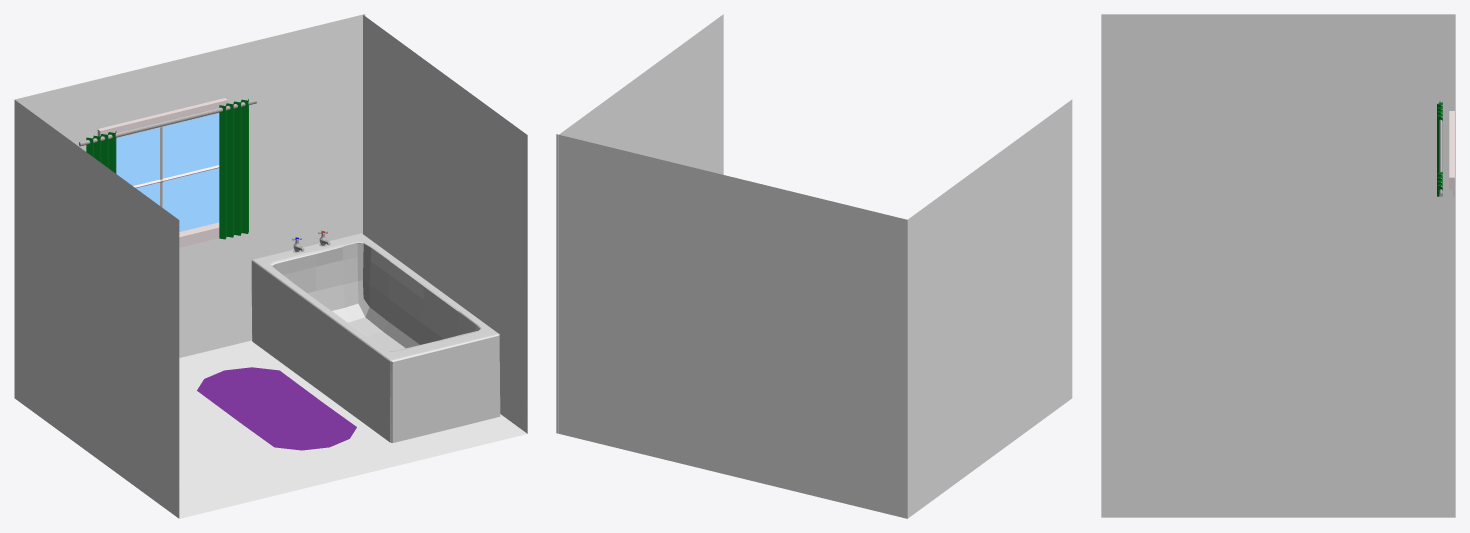
3 views of the same model, side by side, from view 1: azimuth 30°, elevation 25°; view 2: azimuth 150°, elevation 25°; view 3: azimuth 270°, elevation 25° (orthographic). The views are drawn at different scales.
Visible parts, largest first — view 1: WallW, WallE.001, WallE, Bathtub, Floor, Window, Bath_Mat, Curtain_R, Curtain_L, Curtain_Rail; view 2: WallE.001, WallW, WallE; view 3: WallE, WallW, Window.
Boxes of the visible parts, left/top/right/bottom form: WallW: left=14, top=100, right=179, bottom=518; WallE.001: left=14, top=14, right=365, bottom=397; WallE: left=363, top=15, right=527, bottom=433; Bathtub: left=251, top=233, right=500, bottom=442; Floor: left=179, top=340, right=526, bottom=518; Window: left=97, top=98, right=227, bottom=247; Bath_Mat: left=197, top=367, right=356, bottom=450; Curtain_R: left=219, top=99, right=248, bottom=239; Curtain_L: left=86, top=131, right=116, bottom=173; Curtain_Rail: left=79, top=99, right=256, bottom=146; WallE.001: left=556, top=134, right=907, bottom=518; WallW: left=907, top=99, right=1072, bottom=518; WallE: left=558, top=14, right=723, bottom=433; WallE: left=1101, top=196, right=1455, bottom=517; WallW: left=1101, top=14, right=1455, bottom=196; Window: left=1449, top=111, right=1454, bottom=196.
Bounding box in the file's own units: 4.92 × 4.01 × 4.
